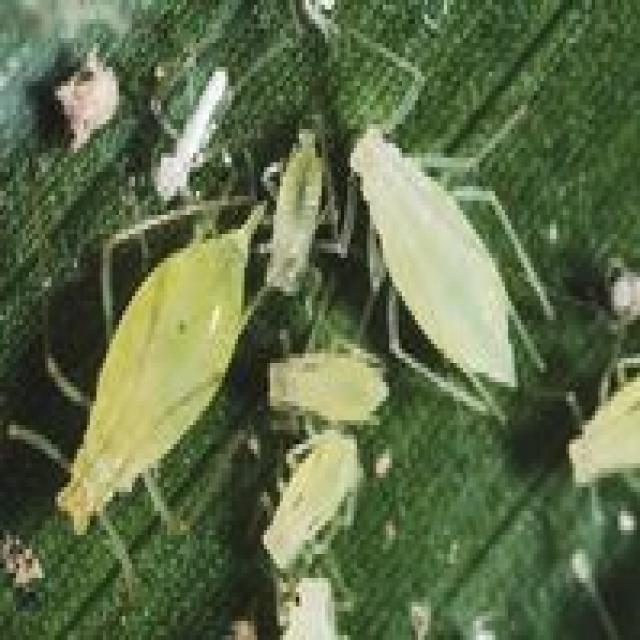Aphids: (324, 11, 574, 442), (3, 191, 266, 584), (269, 350, 405, 570), (267, 115, 330, 329)
